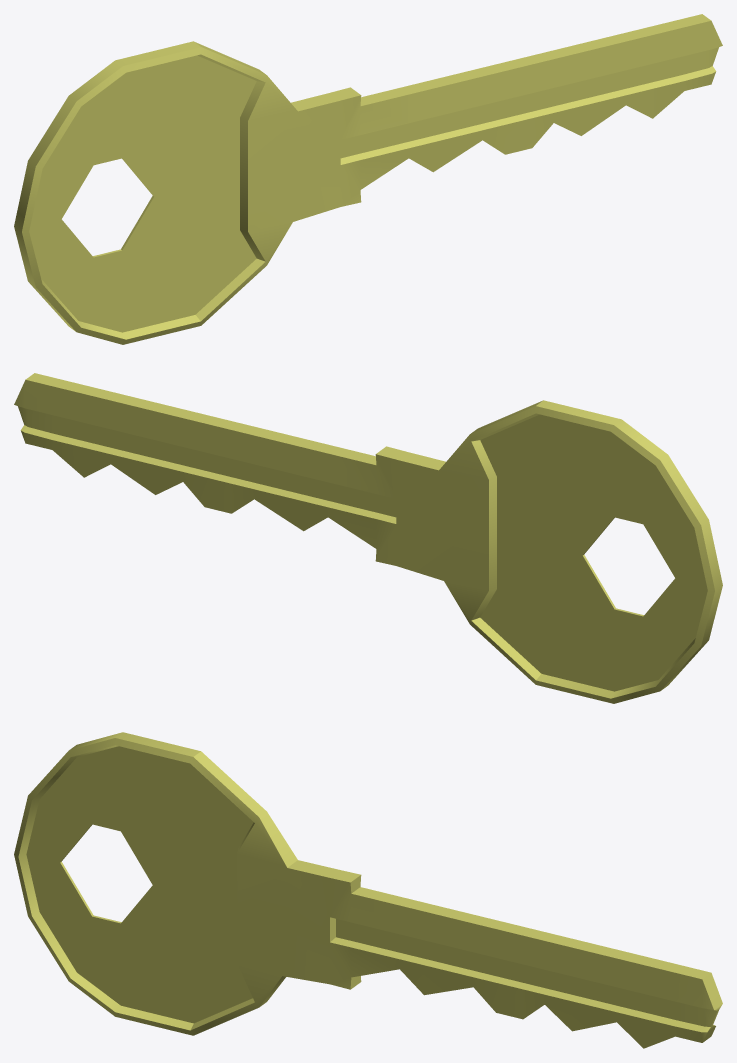
File: StoreConfidential_ALL_KeyAnim_v8.gltf
3 renders of one model, top to bottom at view 1: azimuth 30°, elevation 25°; view 2: azimuth 150°, elevation 25°; view 3: azimuth 330°, elevation 25°, orthographic.
Parts seen in each view (by area): view 1: key_anim; view 2: key_anim; view 3: key_anim.
Part boxes in pixels (x1=…): key_anim: x1=14, y1=14, x2=722, y2=344; key_anim: x1=14, y1=373, x2=722, y2=703; key_anim: x1=14, y1=732, x2=722, y2=1048.
Size of the model in its own units: 0.3141 by 0.1195 by 0.0083.
